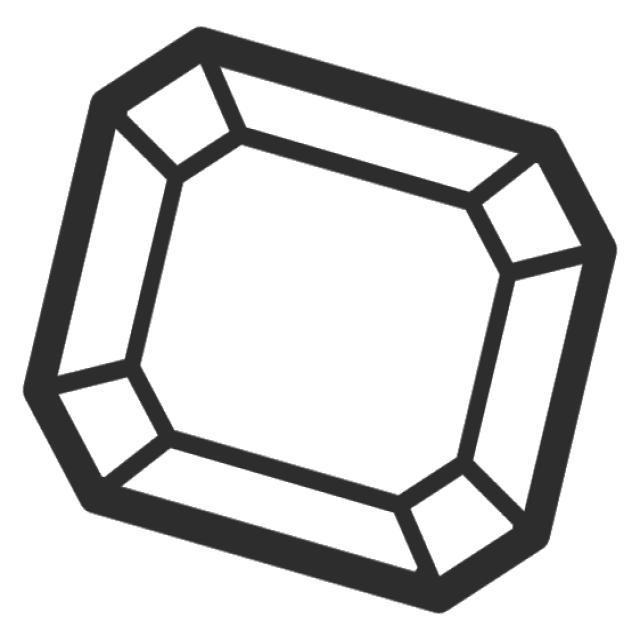emerald: (15, 15, 626, 625)
